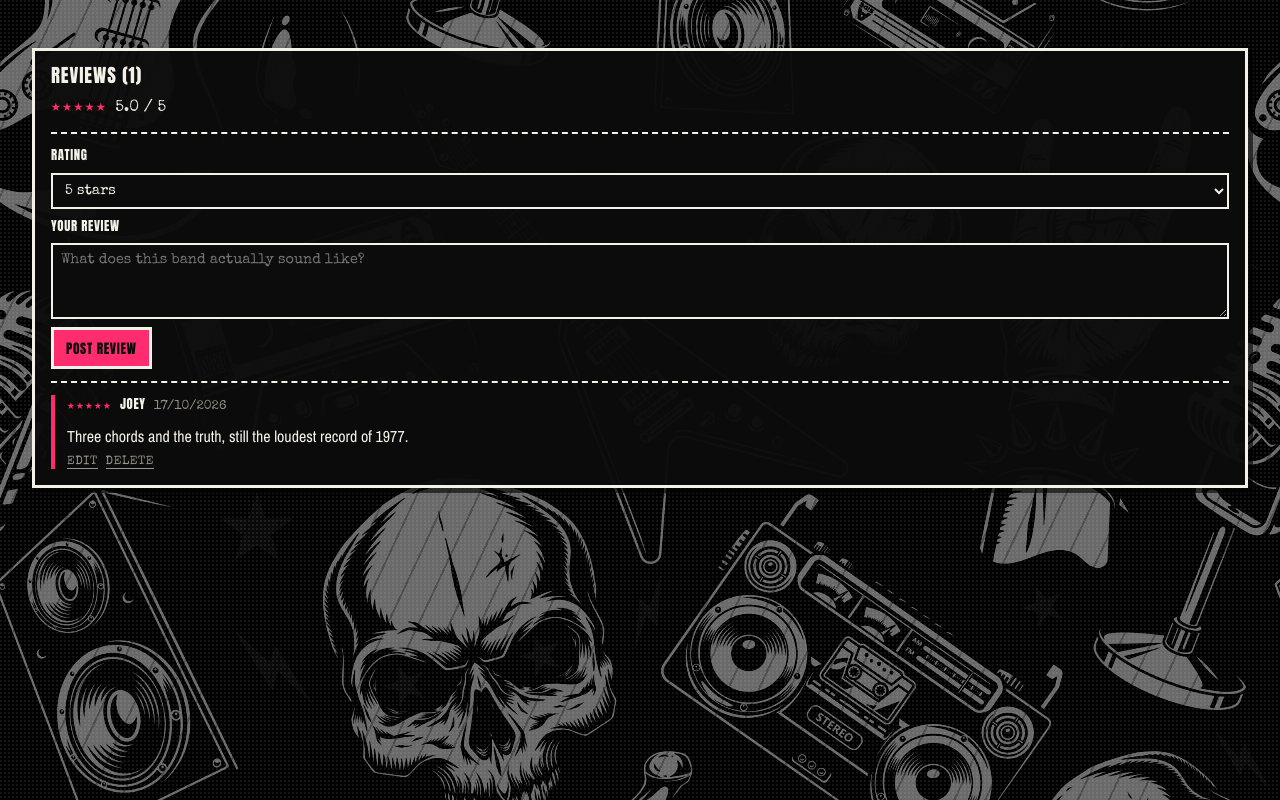
Test: BandReviews — writing › keeps what was typed when the server refuses it
Expected: the text "Three chords and the truth" is shown, top-left (67, 425), bottom-right (408, 447)
Type "A record that still bites." into the text box labelled "Your review".
click(640, 281); type("A record that still bites.")  # box top-left (51, 243), bottom-right (1229, 319)
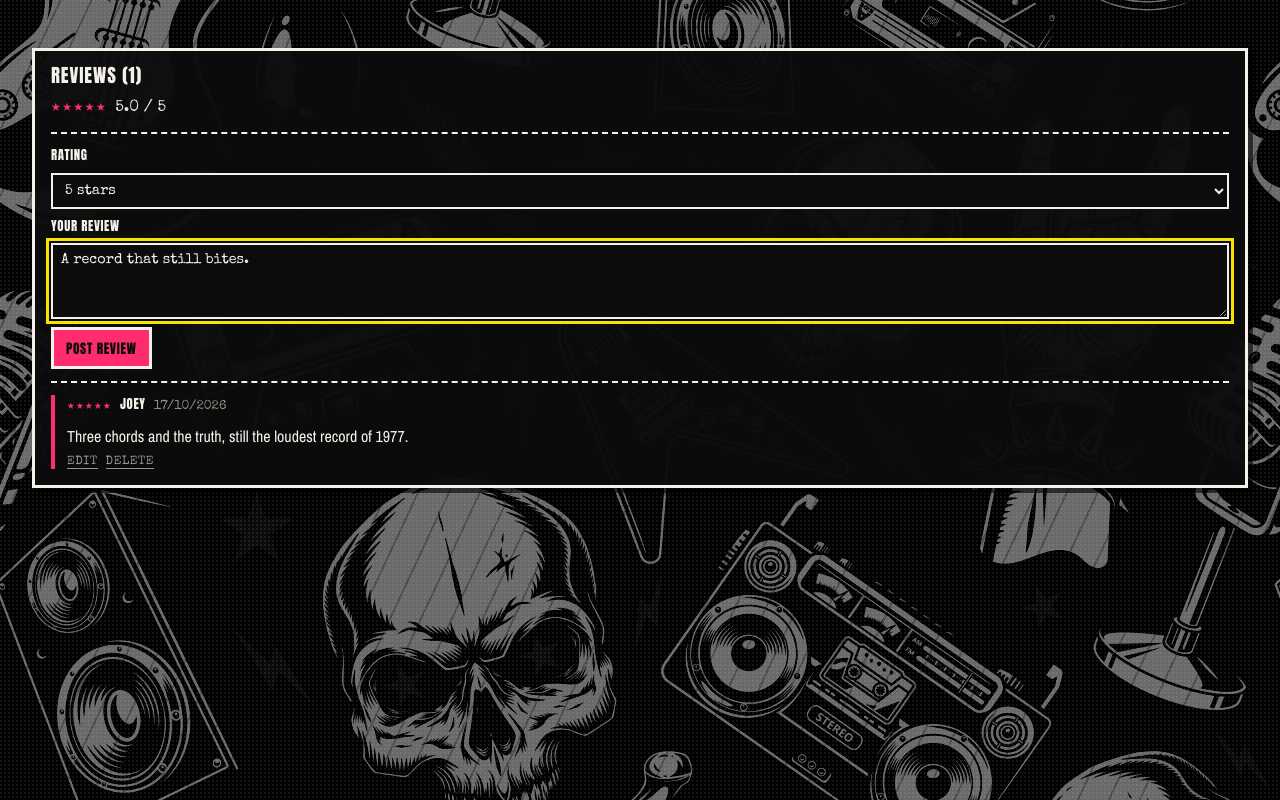
Click the button "Post review".
click(101, 348)  # box top-left (51, 327), bottom-right (152, 369)
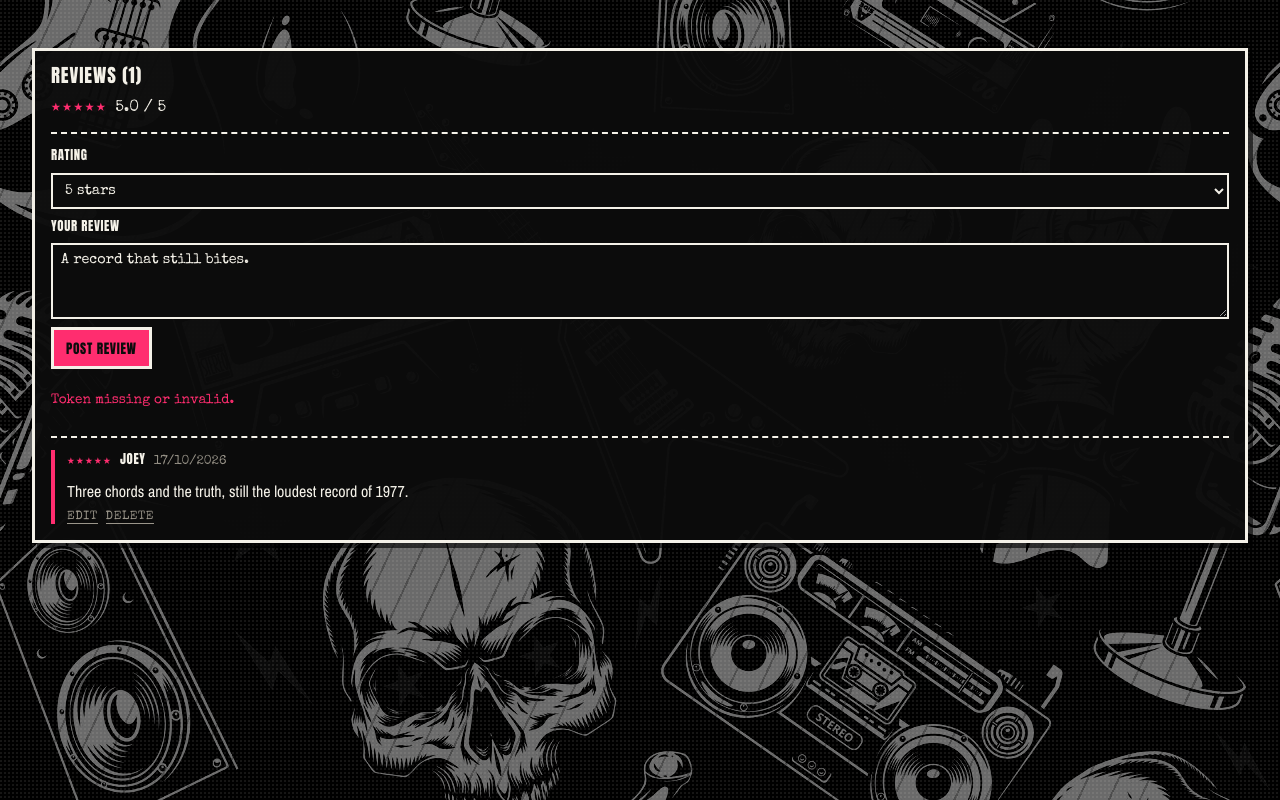
Expected: the message shows "Token missing or invalid", top-left (51, 393), bottom-right (234, 407)
